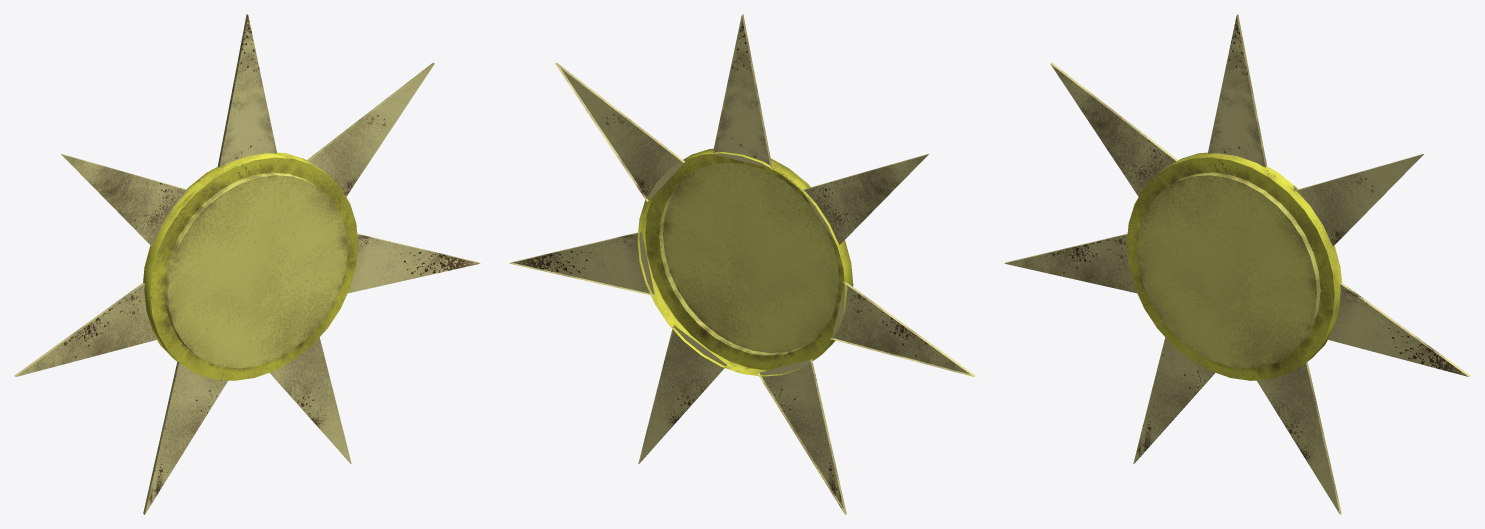
3 views of the same model, side by side, from view 1: azimuth 30°, elevation 25°; view 2: azimuth 150°, elevation 25°; view 3: azimuth 330°, elevation 25° (orthographic).
Parts seen in each view (by area): view 1: Wall Sun; view 2: Wall Sun; view 3: Wall Sun.
Boxes of the visible parts, box(x1,y1,x2,y2) form: Wall Sun: box(14, 14, 480, 514); Wall Sun: box(509, 14, 975, 514); Wall Sun: box(1004, 14, 1470, 514).
Size of the model in its own units: 2.32 by 2.26 by 0.0982.
1 material, 1 textured.
